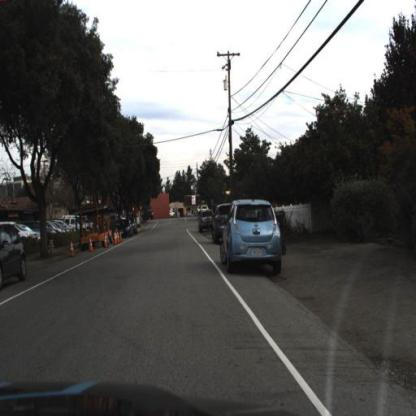car: (222, 195, 286, 271), (1, 224, 29, 287), (1, 219, 41, 250), (210, 202, 239, 244), (62, 215, 94, 242), (198, 211, 213, 235), (118, 221, 131, 239)
truck: (79, 216, 114, 249)
